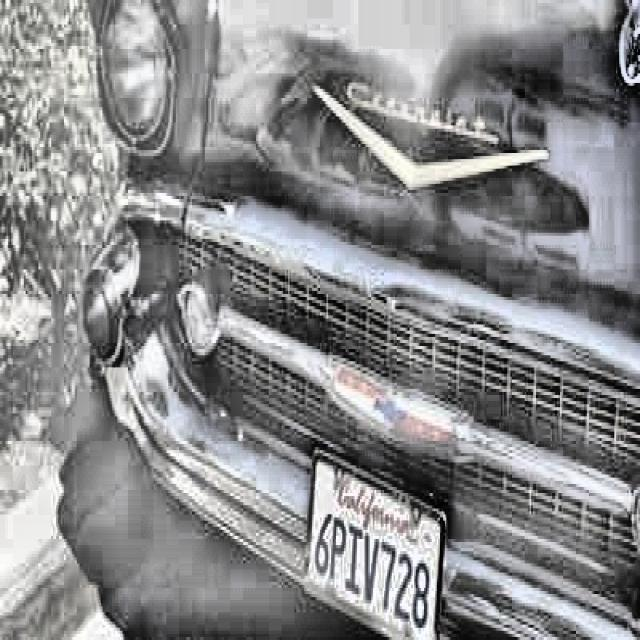license_plate: (308, 462, 434, 636)
